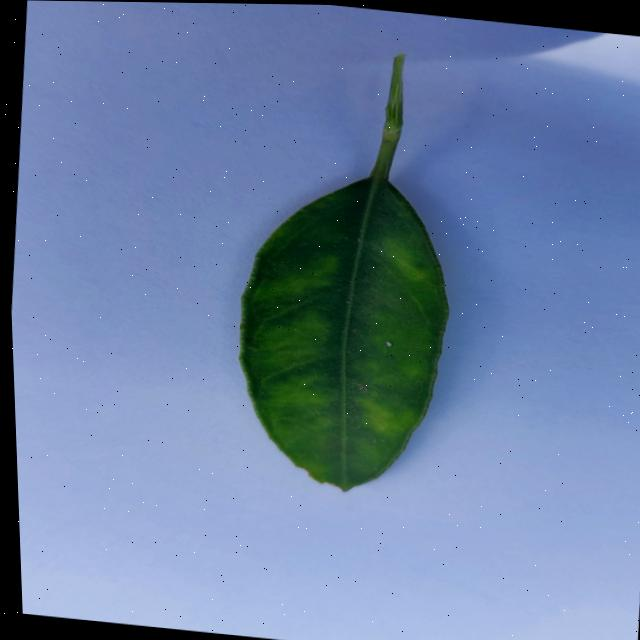greening: (239, 54, 448, 490)
